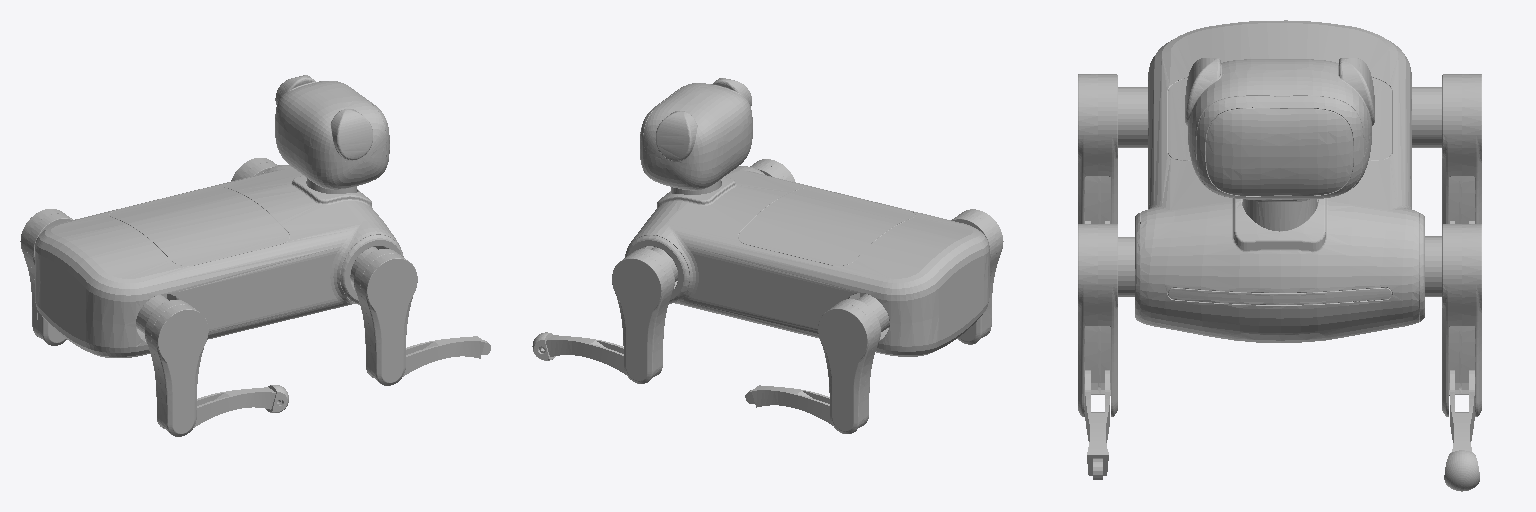
robot.urdf — minidog:
<?xml version="1.0" encoding="utf-8"?>
<!-- This URDF was automatically created by SolidWorks to URDF Exporter! Originally created by Stephen Brawner (brawner@gmail.com) 
     Commit Version: 1.6.0-4-g7f85cfe  Build Version: 1.6.7995.38578
     For more information, please see http://wiki.ros.org/sw_urdf_exporter -->
<robot
  name="minidog">
  <link
    name="base">
    <inertial>
      <origin
        xyz="0.00821482 0.00020218 0.00424442"
        rpy="0 0 0" />
      <mass
        value="2.7673" />
      <inertia
        ixx="0.00998124"
        ixy="9.82E-06"
        ixz="-0.00257876"
        iyy="0.02546149"
        iyz="-1.318E-05"
        izz="0.02812534" />
    </inertial>
    <visual>
      <origin
        xyz="0 0 0"
        rpy="0 0 0" />
      <geometry>
        <mesh
          filename="../meshes/base.STL" />
      </geometry>
      <material
        name="">
        <color
          rgba="0.75294 0.75294 0.75294 1" />
      </material>
    </visual>
    <collision>
      <origin
        xyz="0 0 0"
        rpy="0 0 0" />
      <geometry>
        <box size="0.194 0.16 0.07" />
      </geometry>
    </collision>
    <collision>
      <origin
        xyz="0.2 0 0.03"
        rpy="0 1.57079632 0" />
      <geometry>
        <cylinder length="0.025" radius="0.02"/>
      </geometry>
    </collision>
  </link>
  <link
    name="lf_hip">
    <inertial>
      <origin
        xyz="0.03515121 -0.00140177 9.224E-05"
        rpy="0 0 0" />
      <mass
        value="0.28323" />
      <inertia
        ixx="8.573E-05"
        ixy="1.77E-06"
        ixz="-9E-08"
        iyy="9.68E-05"
        iyz="4.9E-07"
        izz="9.864E-05" />
    </inertial>
    <visual>
      <origin
        xyz="0 0 0"
        rpy="0 0 0" />
      <geometry>
        <mesh
          filename="../meshes/lf_hip.STL" />
      </geometry>
      <material
        name="">
        <color
          rgba="0.75294 0.75294 0.75294 1" />
      </material>
    </visual>
    <collision>
      <origin
        xyz="0.03515121 -0.00140177 9.224E-05"
        rpy="1.57079632 0 0" />
      <geometry>
        <cylinder radius="0.028" length="0.04" />
      </geometry>
    </collision>
  </link>
  <joint
    name="lf_hip_joint"
    type="revolute">
    <origin
      xyz="0.097 0.04 0"
      rpy="0 0 0" />
    <parent
      link="base" />
    <child
      link="lf_hip" />
    <axis
      xyz="1 0 0" />
    <limit
      lower="-0.087222"
      upper="0.087222"
      effort="6"
      velocity="10.467" />
  </joint>
  <link
    name="lf_thigh">
    <inertial>
      <origin
        xyz="-0.00010595 0.05512752 -0.00907793"
        rpy="0 0 0" />
      <mass
        value="0.42421" />
      <inertia
        ixx="0.00057282"
        ixy="7.38E-06"
        ixz="-1.032E-05"
        iyy="0.00042725"
        iyz="0.00010651"
        izz="0.0002817" />
    </inertial>
    <visual>
      <origin
        xyz="0 0 0"
        rpy="0 0 0" />
      <geometry>
        <mesh
          filename="../meshes/lf_thigh.STL" />
      </geometry>
      <material
        name="">
        <color
          rgba="0.75294 0.75294 0.75294 1" />
      </material>
    </visual>
    <collision>
      <origin
        xyz="-0.00010595 0.05512752 -0.00907793"
        rpy="0 0 0" />
      <geometry>
        <box size="0.03 0.03 0.05" />
      </geometry>
    </collision>
  </link>
  <joint
    name="lf_thigh_joint"
    type="revolute">
    <origin
      xyz="0.037 0.017 0"
      rpy="0 0 0" />
    <parent
      link="lf_hip" />
    <child
      link="lf_thigh" />
    <axis
      xyz="0 1 0" />
    <limit
      lower="-2.6167"
      upper="2.6167"
      effort="6"
      velocity="10.467" />
  </joint>
  <link
    name="lf_calf">
    <inertial>
      <origin
        xyz="0.00275232 0 -0.02972173"
        rpy="0 0 0" />
      <mass
        value="0.045248" />
      <inertia
        ixx="7.175E-05"
        ixy="0"
        ixz="3.98E-06"
        iyy="7.314E-05"
        iyz="0"
        izz="3.66E-06" />
    </inertial>
    <visual>
      <origin
        xyz="0 0 0"
        rpy="0 0 0" />
      <geometry>
        <mesh
          filename="../meshes/lf_calf.STL" />
      </geometry>
      <material
        name="">
        <color
          rgba="0.75294 0.75294 0.75294 1" />
      </material>
    </visual>
    <collision>
      <origin
        xyz="0.00275232 0 -0.02972173"
        rpy="0 0 0" />
      <geometry>
        <box size="0.015 0.015 0.05" />
      </geometry>
    </collision>
  </link>
  <joint
    name="lf_calf_joint"
    type="revolute">
    <origin
      xyz="0 0.081 -0.105"
      rpy="0 0 0" />
    <parent
      link="lf_thigh" />
    <child
      link="lf_calf" />
    <axis
      xyz="0 1 0" />
    <limit
      lower="-2.5469"
      upper="-0.48844"
      effort="6"
      velocity="10.467" />
  </joint>
  <link
    name="lf_foot">
    <inertial>
      <origin
        xyz="-0.0005743 -0.00010766 -0.0027789"
        rpy="0 0 0" />
      <mass
        value="0.014945" />
      <inertia
        ixx="1E-06"
        ixy="0"
        ixz="6E-08"
        iyy="1.06E-06"
        iyz="0"
        izz="1.3E-06" />
    </inertial>
    <visual>
      <origin
        xyz="0 0 0"
        rpy="0 0 0" />
      <geometry>
        <mesh
          filename="../meshes/lf_foot.STL" />
      </geometry>
      <material
        name="">
        <color
          rgba="0.75294 0.75294 0.75294 1" />
      </material>
    </visual>
    <collision>
      <origin
        xyz="-0.0005743 -0.00010766 -0.0027789"
        rpy="0 0 0" />
      <geometry>
        <sphere radius="0.015" />
      </geometry>
    </collision>
  </link>
  <joint
    name="lf_foot_joint"
    type="fixed">
    <origin
      xyz="0 0 -0.12589"
      rpy="0 0 0" />
    <parent
      link="lf_calf" />
    <child
      link="lf_foot" />
    <axis
      xyz="0 0 0" />
  </joint>
  <link
    name="rf_hip">
    <inertial>
      <origin
        xyz="0.03515121 0.00140177 -9.224E-05"
        rpy="0 0 0" />
      <mass
        value="0.28323" />
      <inertia
        ixx="8.573E-05"
        ixy="-1.77E-06"
        ixz="9E-08"
        iyy="9.68E-05"
        iyz="4.9E-07"
        izz="9.864E-05" />
    </inertial>
    <visual>
      <origin
        xyz="0 0 0"
        rpy="0 0 0" />
      <geometry>
        <mesh
          filename="../meshes/rf_hip.STL" />
      </geometry>
      <material
        name="">
        <color
          rgba="0.75294 0.75294 0.75294 1" />
      </material>
    </visual>
    <collision>
      <origin
        xyz="0.03515121 0.00140177 -9.224E-05"
        rpy="1.57079632 0 0" />
      <geometry>
        <cylinder radius="0.028" length="0.04" />
      </geometry>
    </collision>
  </link>
  <joint
    name="rf_hip_joint"
    type="revolute">
    <origin
      xyz="0.097 -0.04 0"
      rpy="0 0 0" />
    <parent
      link="base" />
    <child
      link="rf_hip" />
    <axis
      xyz="1 0 0" />
    <limit
      lower="-0.087222"
      upper="0.087222"
      effort="6"
      velocity="10.467" />
  </joint>
  <link
    name="rf_thigh">
    <inertial>
      <origin
        xyz="6.646E-05 -0.05491633 -0.00912824"
        rpy="0 0 0" />
      <mass
        value="0.42559" />
      <inertia
        ixx="0.00057366"
        ixy="-9.7E-06"
        ixz="-1.102E-05"
        iyy="0.00042739"
        iyz="-0.00010638"
        izz="0.00028519" />
    </inertial>
    <visual>
      <origin
        xyz="0 0 0"
        rpy="0 0 0" />
      <geometry>
        <mesh
          filename="../meshes/rf_thigh.STL" />
      </geometry>
      <material
        name="">
        <color
          rgba="0.75294 0.75294 0.75294 1" />
      </material>
    </visual>
    <collision>
      <origin
        xyz="6.646E-05 -0.05491633 -0.00912824"
        rpy="0 0 0" />
      <geometry>
        <box size="0.03 0.03 0.05" />
      </geometry>
    </collision>
  </link>
  <joint
    name="rf_thigh_joint"
    type="revolute">
    <origin
      xyz="0.037 -0.017 0"
      rpy="0 0 0" />
    <parent
      link="rf_hip" />
    <child
      link="rf_thigh" />
    <axis
      xyz="0 1 0" />
    <limit
      lower="-2.6167"
      upper="2.6167"
      effort="6"
      velocity="10.467" />
  </joint>
  <link
    name="rf_calf">
    <inertial>
      <origin
        xyz="0.00275232 0 -0.02972173"
        rpy="0 0 0" />
      <mass
        value="0.045248" />
      <inertia
        ixx="7.175E-05"
        ixy="0"
        ixz="3.98E-06"
        iyy="7.314E-05"
        iyz="0"
        izz="3.66E-06" />
    </inertial>
    <visual>
      <origin
        xyz="0 0 0"
        rpy="0 0 0" />
      <geometry>
        <mesh
          filename="../meshes/rf_calf.STL" />
      </geometry>
      <material
        name="">
        <color
          rgba="0.75294 0.75294 0.75294 1" />
      </material>
    </visual>
    <collision>
      <origin
        xyz="0.00275232 0 -0.02972173"
        rpy="0 0 0" />
      <geometry>
        <box size="0.03 0.03 0.05" />
      </geometry>
    </collision>
  </link>
  <joint
    name="rf_calf_joint"
    type="revolute">
    <origin
      xyz="0 -0.081 -0.105"
      rpy="0 0 0" />
    <parent
      link="rf_thigh" />
    <child
      link="rf_calf" />
    <axis
      xyz="0 1 0" />
    <limit
      lower="-2.5469"
      upper="-0.48844"
      effort="6"
      velocity="10.467" />
  </joint>
  <link
    name="rf_foot">
    <inertial>
      <origin
        xyz="-0.0005743 -0.00010766 -0.0027789"
        rpy="0 0 0" />
      <mass
        value="0.014945" />
      <inertia
        ixx="1E-06"
        ixy="0"
        ixz="6E-08"
        iyy="1.06E-06"
        iyz="0"
        izz="1.3E-06" />
    </inertial>
    <visual>
      <origin
        xyz="0 0 0"
        rpy="0 0 0" />
      <geometry>
        <mesh
          filename="../meshes/rf_foot.STL" />
      </geometry>
      <material
        name="">
        <color
          rgba="0.75294 0.75294 0.75294 1" />
      </material>
    </visual>
     <collision>
      <origin
        xyz="-0.0005743 -0.00010766 -0.0027789"
        rpy="0 0 0" />
      <geometry>
        <sphere radius="0.015" />
      </geometry>
    </collision>
  </link>
  <joint
    name="rf_foot_joint"
    type="fixed">
    <origin
      xyz="0 0 -0.12589"
      rpy="0 0 0" />
    <parent
      link="rf_calf" />
    <child
      link="rf_foot" />
    <axis
      xyz="0 0 0" />
  </joint>
  <link
    name="lr_hip">
    <inertial>
      <origin
        xyz="-0.03515121 -0.00140177 -9.224E-05"
        rpy="0 0 0" />
      <mass
        value="0.28323" />
      <inertia
        ixx="8.573E-05"
        ixy="-1.77E-06"
        ixz="-9E-08"
        iyy="9.68E-05"
        iyz="-4.9E-07"
        izz="9.864E-05" />
    </inertial>
    <visual>
      <origin
        xyz="0 0 0"
        rpy="0 0 0" />
      <geometry>
        <mesh
          filename="../meshes/lr_hip.STL" />
      </geometry>
      <material
        name="">
        <color
          rgba="0.75294 0.75294 0.75294 1" />
      </material>
    </visual>
    <collision>
      <origin
        xyz="-0.03515121 -0.00140177 -9.224E-05"
        rpy="1.57079632 0 0" />
      <geometry>
        <cylinder radius="0.028" length="0.04" />
      </geometry>
    </collision>
  </link>
  <joint
    name="lr_hip_joint"
    type="revolute">
    <origin
      xyz="-0.097 0.04 0"
      rpy="0 0 0" />
    <parent
      link="base" />
    <child
      link="lr_hip" />
    <axis
      xyz="1 0 0" />
    <limit
      lower="-0.087222"
      upper="0.087222"
      effort="6"
      velocity="10.467" />
  </joint>
  <link
    name="lr_thigh">
    <inertial>
      <origin
        xyz="-0.00043375 0.05495689 -0.00971555"
        rpy="0 0 0" />
      <mass
        value="0.41571" />
      <inertia
        ixx="0.00055768"
        ixy="5.8E-07"
        ixz="-6.79E-06"
        iyy="0.00041688"
        iyz="9.683E-05"
        izz="0.00027342" />
    </inertial>
    <visual>
      <origin
        xyz="0 0 0"
        rpy="0 0 0" />
      <geometry>
        <mesh
          filename="../meshes/lr_thigh.STL" />
      </geometry>
      <material
        name="">
        <color
          rgba="0.75294 0.75294 0.75294 1" />
      </material>
    </visual>
    <collision>
      <origin
        xyz="-0.00043375 0.05495689 -0.00971555"
        rpy="0 0 0" />
      <geometry>
        <box size="0.03 0.03 0.05" />
      </geometry>
    </collision>
  </link>
  <joint
    name="lr_thigh_joint"
    type="revolute">
    <origin
      xyz="-0.037 0.017 0"
      rpy="0 0 0" />
    <parent
      link="lr_hip" />
    <child
      link="lr_thigh" />
    <axis
      xyz="0 1 0" />
    <limit
      lower="-2.6167"
      upper="2.6167"
      effort="6"
      velocity="10.467" />
  </joint>
  <link
    name="lr_calf">
    <inertial>
      <origin
        xyz="0.00275232 0 -0.02972173"
        rpy="0 0 0" />
      <mass
        value="0.045248" />
      <inertia
        ixx="7.175E-05"
        ixy="0"
        ixz="3.98E-06"
        iyy="7.314E-05"
        iyz="0"
        izz="3.66E-06" />
    </inertial>
    <visual>
      <origin
        xyz="0 0 0"
        rpy="0 0 0" />
      <geometry>
        <mesh
          filename="../meshes/lr_calf.STL" />
      </geometry>
      <material
        name="">
        <color
          rgba="0.75294 0.75294 0.75294 1" />
      </material>
    </visual>
    <collision>
      <origin
        xyz="0.00275232 0 -0.02972173"
        rpy="0 0 0" />
      <geometry>
        <box size="0.015 0.015 0.05" />
      </geometry>
    </collision>
  </link>
  <joint
    name="lr_calf_joint"
    type="revolute">
    <origin
      xyz="0 0.081 -0.105"
      rpy="0 0 0" />
    <parent
      link="lr_thigh" />
    <child
      link="lr_calf" />
    <axis
      xyz="0 1 0" />
    <limit
      lower="-2.5469"
      upper="-0.48844"
      effort="6"
      velocity="10.467" />
  </joint>
  <link
    name="lr_foot">
    <inertial>
      <origin
        xyz="-0.0005743 -0.00010766 -0.0027789"
        rpy="0 0 0" />
      <mass
        value="0.014945" />
      <inertia
        ixx="1E-06"
        ixy="0"
        ixz="6E-08"
        iyy="1.06E-06"
        iyz="0"
        izz="1.3E-06" />
    </inertial>
    <visual>
      <origin
        xyz="0 0 0"
        rpy="0 0 0" />
      <geometry>
        <mesh
          filename="../meshes/lr_foot.STL" />
      </geometry>
      <material
        name="">
        <color
          rgba="0.75294 0.75294 0.75294 1" />
      </material>
    </visual>
    <collision>
      <origin
        xyz="-0.0005743 -0.00010766 -0.0027789"
        rpy="0 0 0" />
      <geometry>
        <sphere radius="0.015" />
      </geometry>
    </collision>
  </link>
  <joint
    name="lr_foot_joint"
    type="fixed">
    <origin
      xyz="0 0 -0.12589"
      rpy="0 0 0" />
    <parent
      link="lr_calf" />
    <child
      link="lr_foot" />
    <axis
      xyz="0 0 0" />
  </joint>
  <link
    name="rr_hip">
    <inertial>
      <origin
        xyz="-0.03515121 0.00140177 9.224E-05"
        rpy="0 0 0" />
      <mass
        value="0.28323" />
      <inertia
        ixx="8.573E-05"
        ixy="1.77E-06"
        ixz="9E-08"
        iyy="9.68E-05"
        iyz="-4.9E-07"
        izz="9.864E-05" />
    </inertial>
    <visual>
      <origin
        xyz="0 0 0"
        rpy="0 0 0" />
      <geometry>
        <mesh
          filename="../meshes/rr_hip.STL" />
      </geometry>
      <material
        name="">
        <color
          rgba="0.75294 0.75294 0.75294 1" />
      </material>
    </visual>
    <collision>
      <origin
        xyz="-0.03515121 0.00140177 9.224E-05"
        rpy="1.57079632 0 0" />
      <geometry>
        <cylinder radius="0.028" length="0.04" />
      </geometry>
    </collision>
  </link>
  <joint
    name="rr_hip_joint"
    type="revolute">
    <origin
      xyz="-0.097 -0.04 0"
      rpy="0 0 0" />
    <parent
      link="base" />
    <child
      link="rr_hip" />
    <axis
      xyz="1 0 0" />
    <limit
      lower="-0.087222"
      upper="0.087222"
      effort="6"
      velocity="10.467" />
  </joint>
  <link
    name="rr_thigh">
    <inertial>
      <origin
        xyz="-0.00053812 -0.05495676 -0.00960878"
        rpy="0 0 0" />
      <mass
        value="0.41571" />
      <inertia
        ixx="0.00055765"
        ixy="4.5E-07"
        ixz="-6.61E-06"
        iyy="0.0004175"
        iyz="-9.783E-05"
        izz="0.00027407" />
    </inertial>
    <visual>
      <origin
        xyz="0 0 0"
        rpy="0 0 0" />
      <geometry>
        <mesh
          filename="../meshes/rr_thigh.STL" />
      </geometry>
      <material
        name="">
        <color
          rgba="0.75294 0.75294 0.75294 1" />
      </material>
    </visual>
    <collision>
      <origin
        xyz="-0.00053812 -0.05495676 -0.00960878"
        rpy="0 0 0" />
      <geometry>
        <box size="0.03 0.03 0.05" />
      </geometry>
    </collision>
  </link>
  <joint
    name="rr_thigh_joint"
    type="revolute">
    <origin
      xyz="-0.037 -0.017 0"
      rpy="0 0 0" />
    <parent
      link="rr_hip" />
    <child
      link="rr_thigh" />
    <axis
      xyz="0 1 0" />
    <limit
      lower="-2.6167"
      upper="2.6167"
      effort="6"
      velocity="10.467" />
  </joint>
  <link
    name="rr_calf">
    <inertial>
      <origin
        xyz="0.00275232 0 -0.02972173"
        rpy="0 0 0" />
      <mass
        value="0.045248" />
      <inertia
        ixx="7.175E-05"
        ixy="0"
        ixz="3.98E-06"
        iyy="7.314E-05"
        iyz="0"
        izz="3.66E-06" />
    </inertial>
    <visual>
      <origin
        xyz="0 0 0"
        rpy="0 0 0" />
      <geometry>
        <mesh
          filename="../meshes/rr_calf.STL" />
      </geometry>
      <material
        name="">
        <color
          rgba="0.75294 0.75294 0.75294 1" />
      </material>
    </visual>
    <collision>
      <origin
        xyz="0.00275232 0 -0.02972173"
        rpy="0 0 0" />
      <geometry>
        <box size="0.015 0.015 0.05" />
      </geometry>
    </collision>
  </link>
  <joint
    name="rr_calf_joint"
    type="revolute">
    <origin
      xyz="0 -0.081 -0.105"
      rpy="0 0 0" />
    <parent
      link="rr_thigh" />
    <child
      link="rr_calf" />
    <axis
      xyz="0 1 0" />
    <limit
      lower="-2.5469"
      upper="-0.48844"
      effort="6"
      velocity="10.467" />
  </joint>
  <link
    name="rr_foot">
    <inertial>
      <origin
        xyz="-0.0005743 -0.00010766 -0.0027789"
        rpy="0 0 0" />
      <mass
        value="0.014945" />
      <inertia
        ixx="1E-06"
        ixy="0"
        ixz="6E-08"
        iyy="1.06E-06"
        iyz="0"
        izz="1.3E-06" />
    </inertial>
    <visual>
      <origin
        xyz="0 0 0"
        rpy="0 0 0" />
      <geometry>
        <mesh
          filename="../meshes/rr_foot.STL" />
      </geometry>
      <material
        name="">
        <color
          rgba="0.75294 0.75294 0.75294 1" />
      </material>
    </visual>
    <collision>
      <origin
        xyz="-0.0005743 -0.00010766 -0.0027789"
        rpy="0 0 0" />
      <geometry>
        <sphere radius="0.015" />
      </geometry>
    </collision>
  </link>
  <joint
    name="rr_foot_joint"
    type="fixed">
    <origin
      xyz="0 0 -0.12589"
      rpy="0 0 0" />
    <parent
      link="rr_calf" />
    <child
      link="rr_foot" />
    <axis
      xyz="0 0 0" />
  </joint>
</robot>

--- Render facts (derived) ---
The picture shows the robot from 3 angles, left to right: view 1: azimuth 30°, elevation 25°; view 2: azimuth 150°, elevation 25°; view 3: azimuth 270°, elevation 25°; orthographic projection.
Model minidog with 17 links and 16 joints (12 revolute, 4 fixed), rooted at base, posed all joints at 0 but 4 set to mid-range because 0 is outside their limits (lf_calf_joint = -1.52, rf_calf_joint = -1.52, lr_calf_joint = -1.52, rr_calf_joint = -1.52).
Links seen in each view (by area): view 1: base, rr_thigh, rf_thigh, lr_thigh, rf_calf, rr_calf, lf_thigh; view 2: base, lr_thigh, lf_thigh, rr_thigh, lr_calf, lf_calf, rf_thigh; view 3: base, lf_thigh, rf_thigh, lr_thigh, rr_thigh, rf_calf, lf_calf, lf_foot.
Boxes of the visible links, x1=… form: base: x1=35, y1=75, x2=403, y2=357; rr_thigh: x1=136, y1=294, x2=208, y2=436; rf_thigh: x1=350, y1=247, x2=417, y2=385; lr_thigh: x1=20, y1=209, x2=72, y2=345; rf_calf: x1=403, y1=336, x2=490, y2=376; rr_calf: x1=194, y1=387, x2=277, y2=427; lf_thigh: x1=231, y1=158, x2=277, y2=180; base: x1=625, y1=78, x2=989, y2=356; lr_thigh: x1=818, y1=294, x2=889, y2=433; lf_thigh: x1=612, y1=247, x2=677, y2=383; rr_thigh: x1=951, y1=209, x2=1003, y2=344; lr_calf: x1=745, y1=385, x2=832, y2=425; lf_calf: x1=543, y1=335, x2=625, y2=374; rf_thigh: x1=750, y1=159, x2=794, y2=181; base: x1=1135, y1=20, x2=1424, y2=342; lf_thigh: x1=1425, y1=224, x2=1481, y2=416; rf_thigh: x1=1078, y1=224, x2=1134, y2=416; lr_thigh: x1=1412, y1=74, x2=1481, y2=223; rr_thigh: x1=1078, y1=74, x2=1147, y2=223; rf_calf: x1=1085, y1=370, x2=1109, y2=479; lf_calf: x1=1450, y1=370, x2=1474, y2=452; lf_foot: x1=1444, y1=450, x2=1479, y2=491.
Bounding box of the posed robot: 0.4757 × 0.306 × 0.301 m (x, y, z).
Meshes: 17 distinct files referenced, 15 mesh visuals loaded (15 binary STL); not drawn: 2 (reference not matched to a file when rendering).
